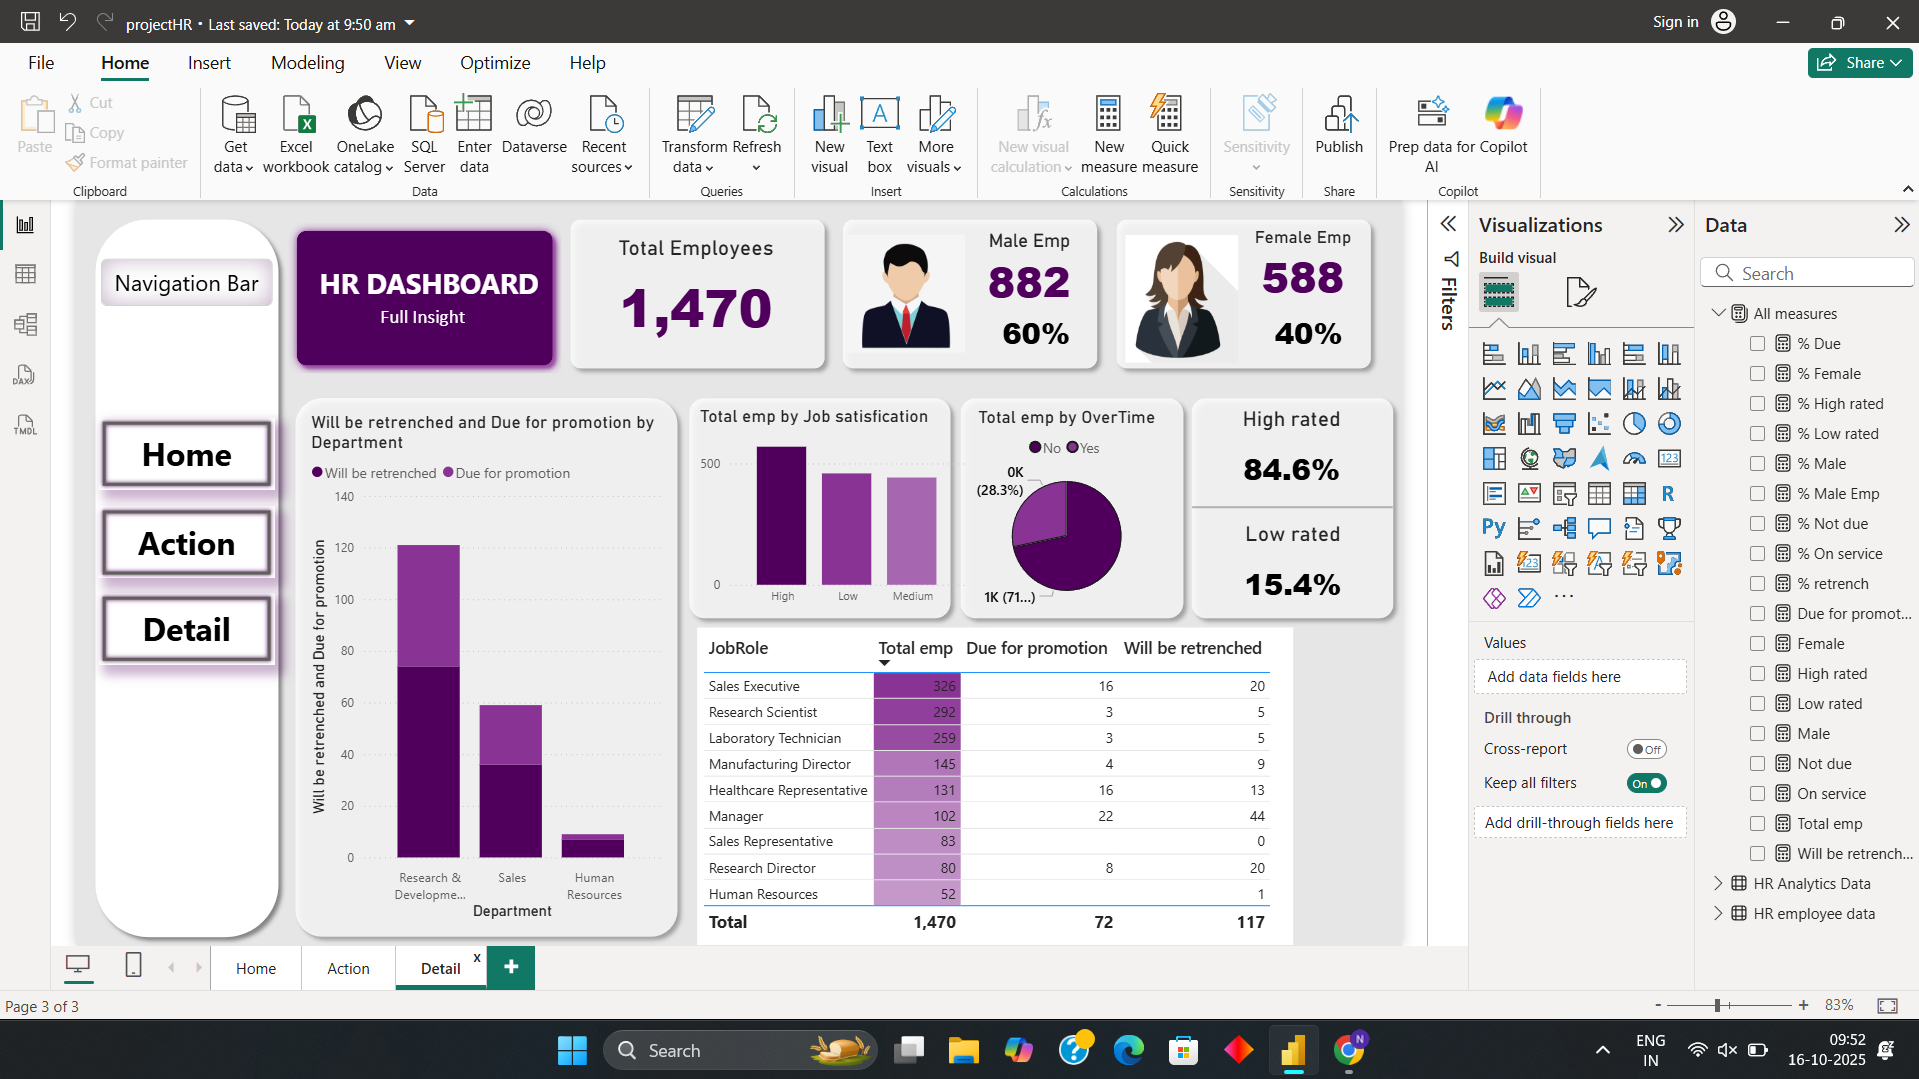

What the dashboard file says about the page in this screenshot:
{"tool":"powerbi","page":{"name":"Detail","canvas":[1280,720],"ordinal":2},"visuals":[{"type":"shape","box":[9.6,9.6,194.9,710.8],"z":0},{"type":"shape","box":[205.1,21.7,263,146],"z":1000},{"type":"shape","box":[467.9,9.6,263.5,161.9],"z":2000},{"type":"shape","box":[731.4,9.6,263.5,161.9],"z":3000},{"type":"shape","box":[994.9,9.6,263.5,161.9],"z":4000},{"type":"textbox","box":[222.3,56.3,237.4,46.7],"z":5000},{"type":"textbox","box":[211.3,96.1,247,50.8],"z":6000},{"type":"card","title":"Total Employees","fields":{"Values":["All measures.Total emp"]},"box":[483,34.3,231.9,112.5],"z":7000},{"type":"card","title":"Male Emp","fields":{"Values":["All measures.Male"]},"box":[863.1,28.8,115.3,76.8],"z":8000},{"type":"card","title":"Male Emp","fields":{"Values":["All measures.% Male"]},"box":[874.1,90.6,104.3,76.8],"z":9000},{"type":"card","title":"Female Emp","fields":{"Values":["All measures.Female"]},"box":[1126.7,25.6,115.3,76.8],"z":10000},{"type":"card","title":"Male Emp","fields":{"Values":["All measures.% Female"]},"box":[1137.6,90.6,104.3,76.8],"z":11000},{"type":"image","box":[739.6,28.8,123.5,123.5],"z":12000},{"type":"image","box":[997.6,28.8,140,133.1],"z":13000},{"type":"shape","box":[203.1,182.5,387,537.9],"z":14000},{"type":"columnChart","fields":{"Y":["All measures.Will be retrenched","All measures.Due for promotion"],"Category":["HR Analytics Data.Department"]},"box":[222.3,204.5,347.2,495.4],"z":15000},{"type":"shape","box":[583.2,182.5,270.3,230.5],"z":16000},{"type":"shape","box":[843.9,182.5,233.3,230.5],"z":17000},{"type":"shape","box":[1067.6,182.5,212.7,230.5],"z":18000},{"type":"columnChart","title":"Total emp by Job satisfication","fields":{"Category":["HR Analytics Data.Custom Job satisfication"],"Y":["All measures.Total emp"]},"box":[596.9,197.6,266.2,201.7],"z":19000},{"type":"pieChart","fields":{"Y":["All measures.Total emp"],"Category":["HR Analytics Data.OverTime"]},"box":[843.9,199,223.7,201.7],"z":20000},{"type":"tableEx","fields":{"Values":["HR Analytics Data.JobRole","All measures.Total emp","All measures.Due for promotion","All measures.Will be retrenched"]},"box":[599.7,413,575,306],"z":21000},{"type":"card","title":"High rated","fields":{"Values":["All measures.% High rated"]},"box":[1077.2,199,192.1,98.8],"z":22000},{"type":"card","title":"Low rated","fields":{"Values":["All measures.% Low rated"]},"box":[1078.6,310.1,192.1,98.8],"z":23000},{"type":"shape","box":[1077.2,274.4,193.5,45.3],"z":24000},{"type":"actionButton","title":"Home","box":[22,209.9,170.2,70],"z":25000},{"type":"actionButton","title":"Home","box":[22,295,170.2,70],"z":26000},{"type":"actionButton","title":"Home","box":[22,378.7,170.2,70],"z":27000},{"type":"textbox","box":[24.1,56.7,165.3,45.8],"z":28000}]}

Visuals, with their boxes on the page's 1280x720 design canvas (x1, y1, x2, y2). These are canvas units, not pixel positions in the 1919x1079 screenshot, which may show the page scaled, cropped or inside an application window:
shape: bbox(10, 10, 204, 720)
shape: bbox(205, 22, 468, 168)
shape: bbox(468, 10, 731, 172)
shape: bbox(731, 10, 995, 172)
shape: bbox(995, 10, 1258, 172)
textbox: bbox(222, 56, 460, 103)
textbox: bbox(211, 96, 458, 147)
"Total Employees" card: bbox(483, 34, 715, 147)
"Male Emp" card: bbox(863, 29, 978, 106)
"Male Emp" card: bbox(874, 91, 978, 167)
"Female Emp" card: bbox(1127, 26, 1242, 102)
"Male Emp" card: bbox(1138, 91, 1242, 167)
image: bbox(740, 29, 863, 152)
image: bbox(998, 29, 1138, 162)
shape: bbox(203, 182, 590, 720)
columnChart - All measures.Will be retrenched x All measures.Due for promotion: bbox(222, 204, 570, 700)
shape: bbox(583, 182, 854, 413)
shape: bbox(844, 182, 1077, 413)
shape: bbox(1068, 182, 1280, 413)
"Total emp by Job satisfication" columnChart: bbox(597, 198, 863, 399)
pieChart - All measures.Total emp x HR Analytics Data.OverTime: bbox(844, 199, 1068, 401)
tableEx - HR Analytics Data.JobRole x All measures.Total emp: bbox(600, 413, 1175, 719)
"High rated" card: bbox(1077, 199, 1269, 298)
"Low rated" card: bbox(1079, 310, 1271, 409)
shape: bbox(1077, 274, 1271, 320)
"Home" actionButton: bbox(22, 210, 192, 280)
"Home" actionButton: bbox(22, 295, 192, 365)
"Home" actionButton: bbox(22, 379, 192, 449)
textbox: bbox(24, 57, 189, 102)
